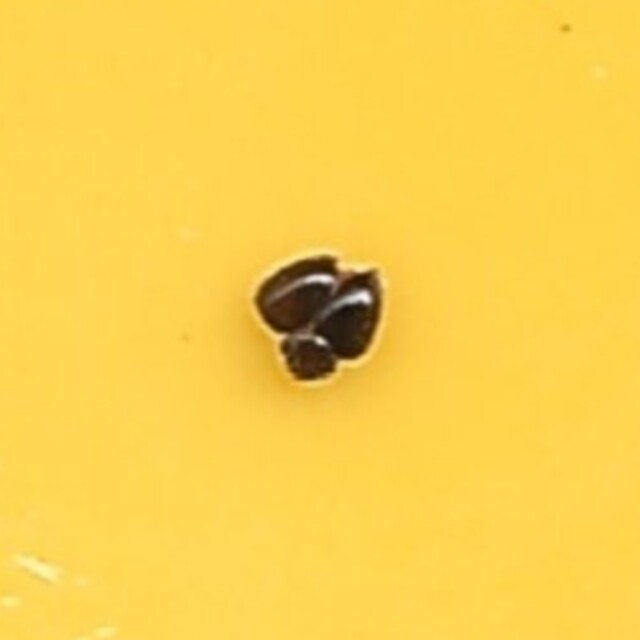Coleoptera: (255, 257, 385, 383)
